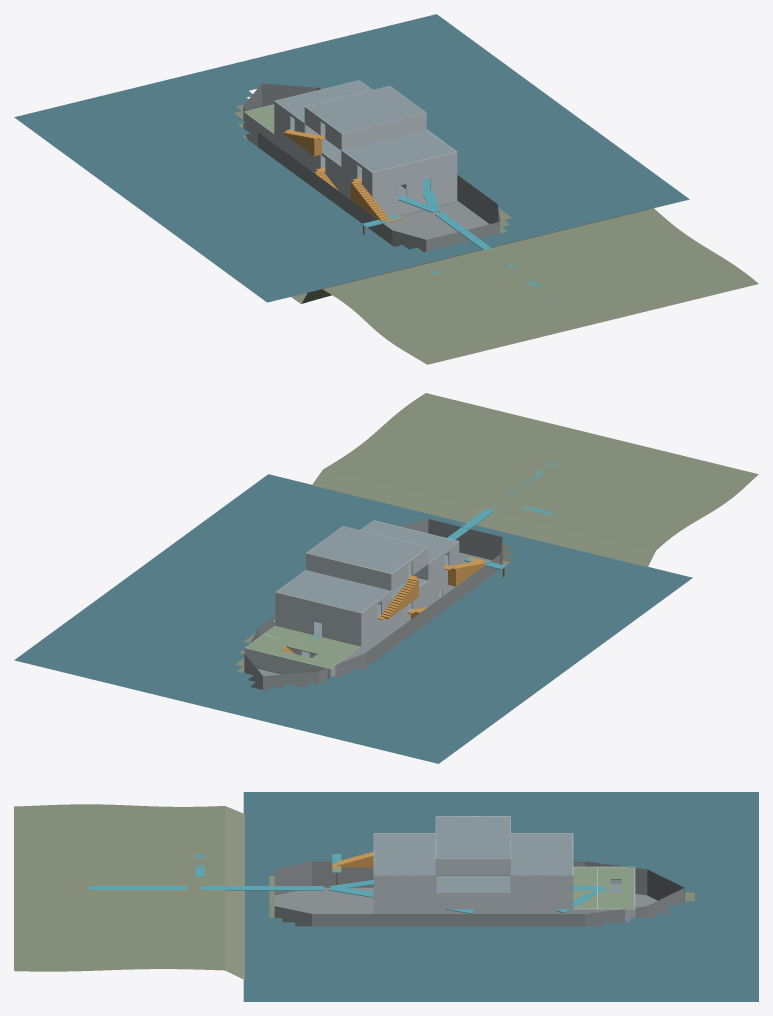
Rendered from supported-terrain.glb.
3 renders of one model, top to bottom at view 1: azimuth 30°, elevation 25°; view 2: azimuth 150°, elevation 25°; view 3: azimuth 270°, elevation 25°, orthographic.
Visible parts, largest first — view 1: WATER PLACEHOLDER / layers and transparency pending, Authored quay terrain, Pointed retired vessel hull / empty interior, Ceiling cap bridge, Ceiling cap crew, Wall crew S, Wall bridge S, Ceiling cap net, Wall engine S; view 2: WATER PLACEHOLDER / layers and transparency pending, Authored quay terrain, Pointed retired vessel hull / empty interior, Ceiling cap bridge, Ceiling cap net, Wall bridge N, Wall net N, Ceiling cap crew, Wall pump N, Wall processing N.001, Wall processing N, Floor fore.004; view 3: WATER PLACEHOLDER / layers and transparency pending, Authored quay terrain, Pointed retired vessel hull / empty interior, Ceiling cap bridge, Ceiling cap net, Ceiling cap crew, Wall processing E, Wall bridge E, Ceiling cap processing, Wall net E, Wall mess E, Wall crew E (+6 smaller).
Part boxes in pixels (left/top/right/bottom): WATER PLACEHOLDER / layers and transparency pending: left=14, top=14, right=689, bottom=302; Authored quay terrain: left=234, top=104, right=758, bottom=364; Pointed retired vessel hull / empty interior: left=243, top=83, right=500, bottom=251; Ceiling cap bridge: left=306, top=86, right=425, bottom=133; Ceiling cap crew: left=342, top=130, right=455, bottom=171; Wall crew S: left=372, top=151, right=456, bottom=188; Wall bridge S: left=341, top=113, right=426, bottom=149; Ceiling cap net: left=275, top=80, right=371, bottom=122; Wall engine S: left=374, top=185, right=456, bottom=217; WATER PLACEHOLDER / layers and transparency pending: left=14, top=474, right=692, bottom=763; Authored quay terrain: left=235, top=393, right=758, bottom=686; Pointed retired vessel hull / empty interior: left=244, top=519, right=502, bottom=690; Ceiling cap bridge: left=306, top=526, right=427, bottom=573; Ceiling cap net: left=276, top=570, right=390, bottom=612; Wall bridge N: left=306, top=553, right=391, bottom=590; Wall net N: left=275, top=592, right=360, bottom=629; Ceiling cap crew: left=361, top=520, right=458, bottom=562; Wall pump N: left=245, top=648, right=329, bottom=678; Wall processing N.001: left=275, top=609, right=314, bottom=634; Wall processing N: left=322, top=620, right=360, bottom=646; Floor fore.004: left=286, top=633, right=335, bottom=654; WATER PLACEHOLDER / layers and transparency pending: left=243, top=792, right=758, bottom=1001; Authored quay terrain: left=14, top=804, right=694, bottom=979; Pointed retired vessel hull / empty interior: left=274, top=861, right=684, bottom=926; Ceiling cap bridge: left=436, top=816, right=510, bottom=858; Ceiling cap net: left=511, top=833, right=572, bottom=875; Ceiling cap crew: left=374, top=833, right=435, bottom=875; Wall processing E: left=436, top=892, right=572, bottom=909; Wall bridge E: left=436, top=858, right=510, bottom=875; Ceiling cap processing: left=436, top=876, right=510, bottom=891; Wall net E: left=510, top=875, right=572, bottom=892; Wall mess E: left=374, top=892, right=435, bottom=909; Wall crew E: left=374, top=875, right=435, bottom=892.
Bounding box in the file's own units: 80 × 14.64 × 120.
